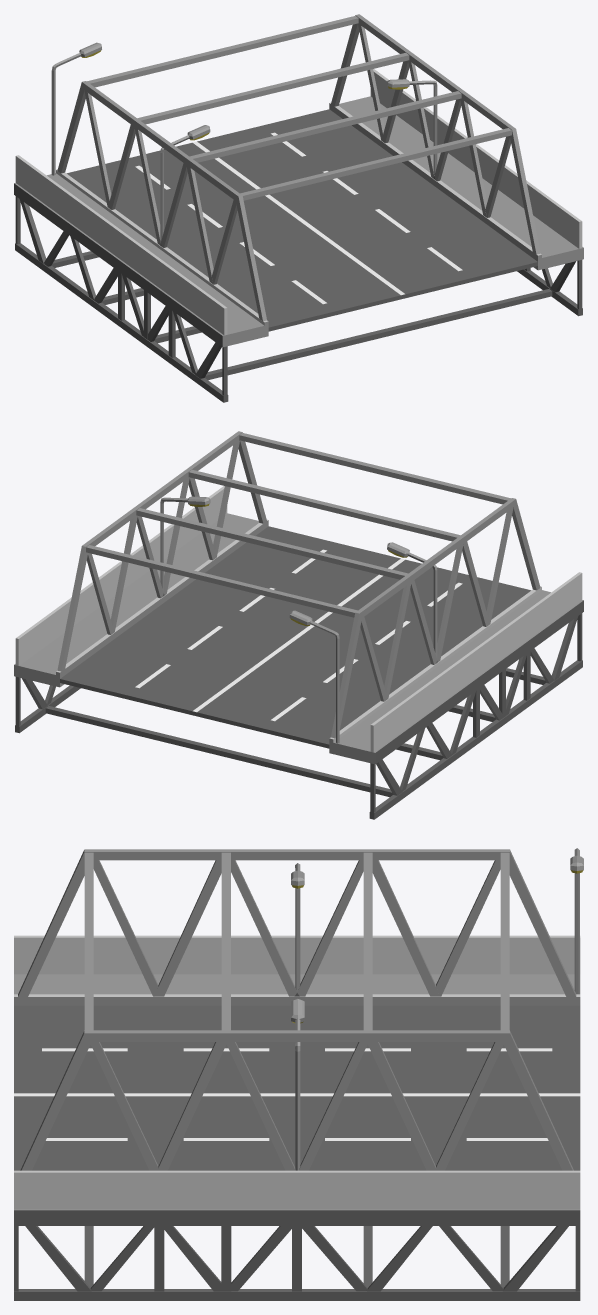
File: bridge_road_003.fbx
3 views of the same model, one above another, from view 1: azimuth 30°, elevation 25°; view 2: azimuth 150°, elevation 25°; view 3: azimuth 270°, elevation 25° (orthographic). The views are drawn at different scales.
Visible parts, largest first — view 1: bridge_road_003; view 2: bridge_road_003; view 3: bridge_road_003.
Part boxes in pixels (x1,y1,x2,y2): bridge_road_003: [14, 14, 583, 402]; bridge_road_003: [14, 431, 583, 819]; bridge_road_003: [14, 848, 583, 1300].
Size of the model in its own units: 1600 by 795 by 1610.
